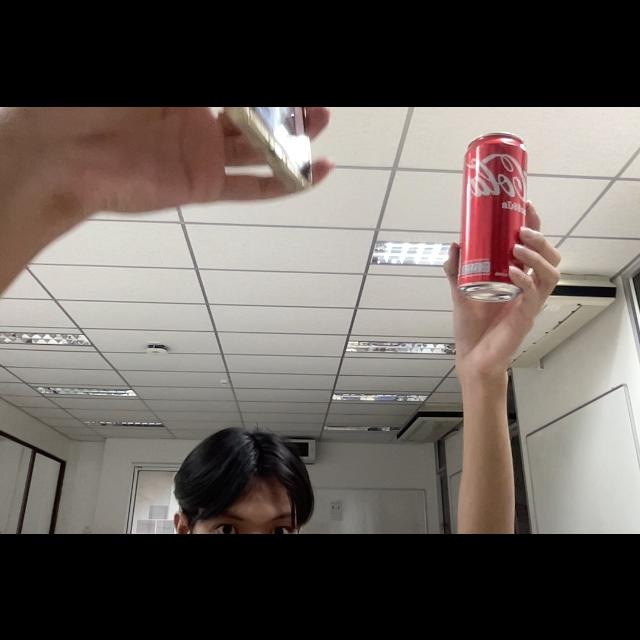can: (454, 126, 530, 304)
